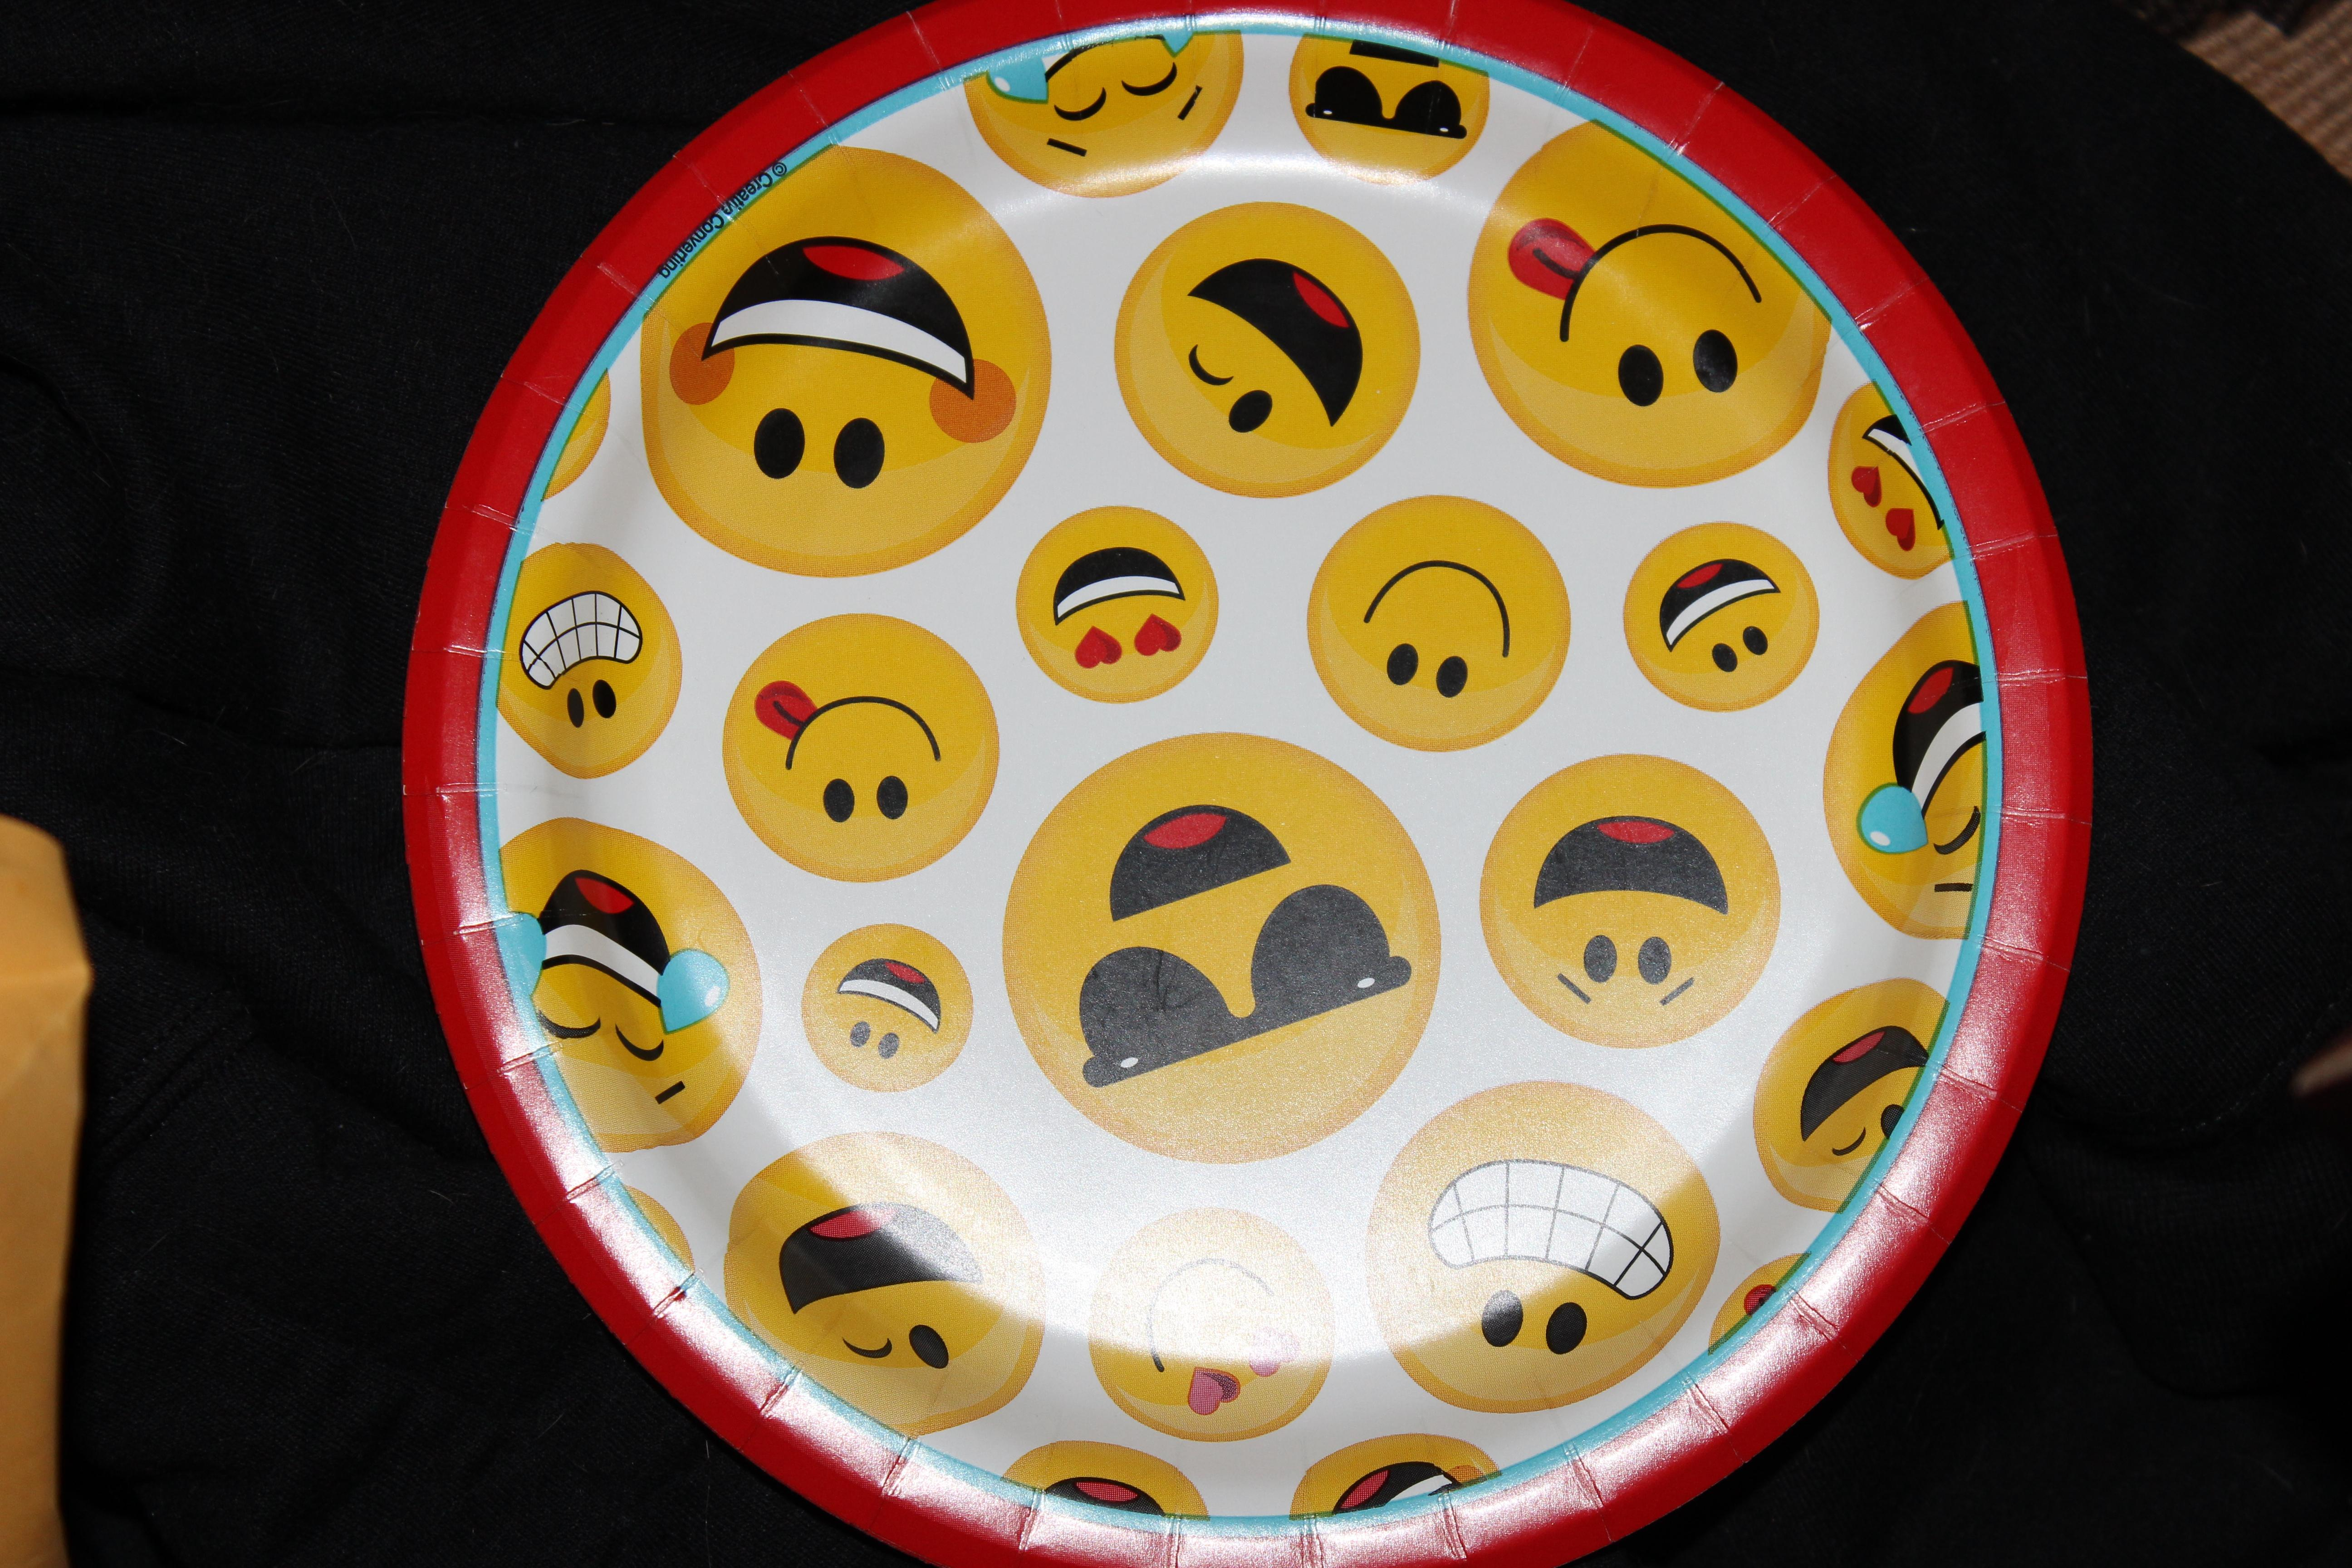paperPlate: (341, 0, 2149, 1568)
